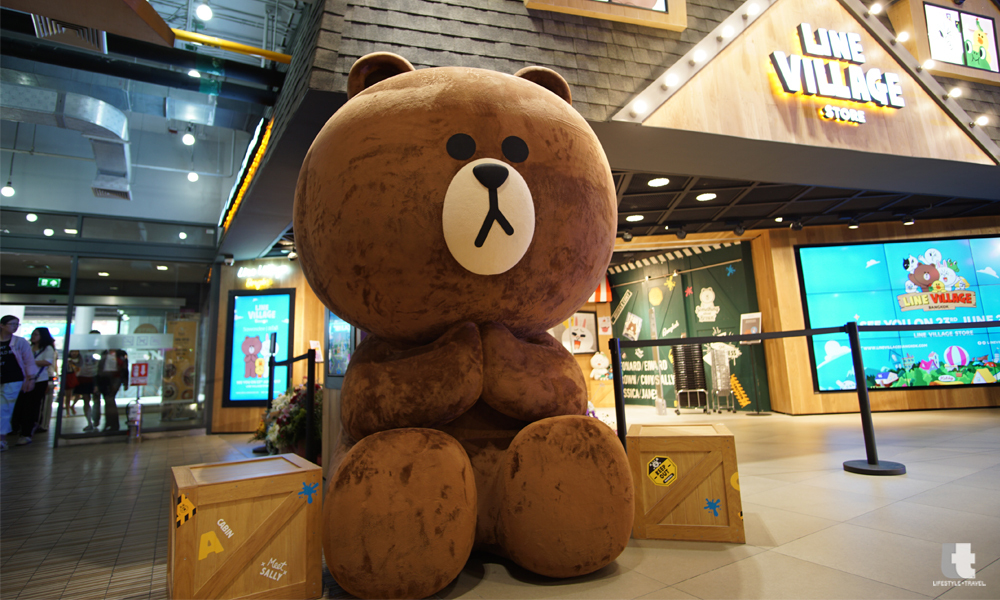line_brown: (288, 49, 643, 359)
